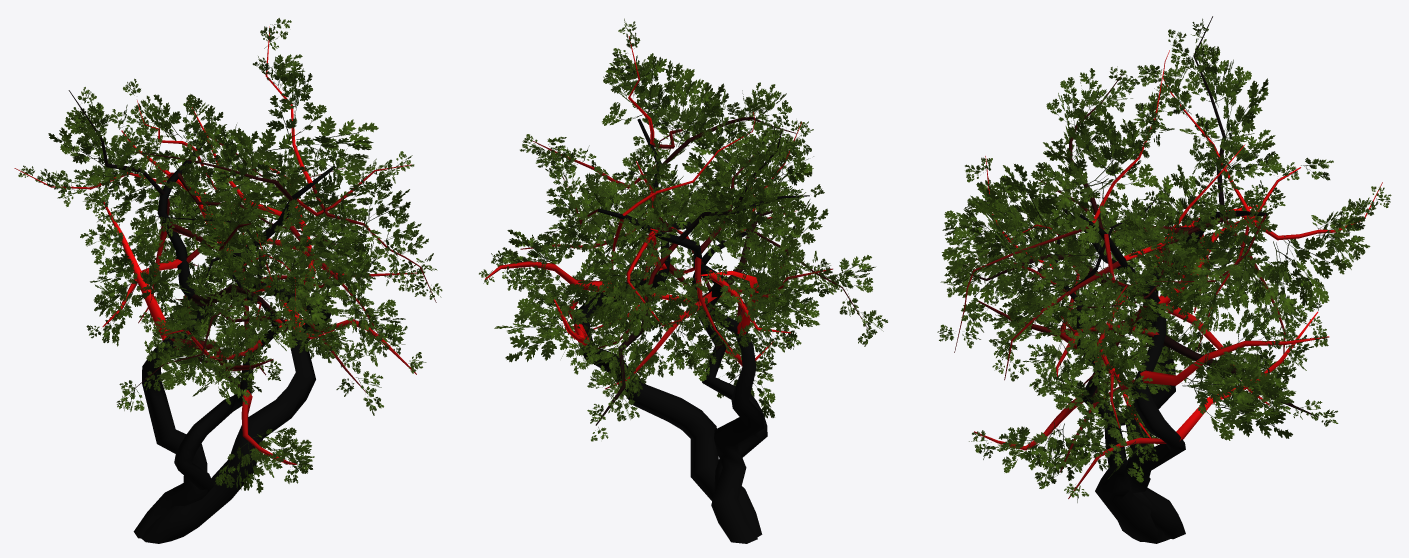
The model's file is oak3 lod0.FBX.
3 views of the same model, side by side, from view 1: azimuth 30°, elevation 25°; view 2: azimuth 150°, elevation 25°; view 3: azimuth 270°, elevation 25° (orthographic). The views are drawn at different scales.
Visible parts, largest first — view 1: oak 3; view 2: oak 3; view 3: oak 3.
Part boxes in pixels (x1,y1,x2,y2): oak 3: (14, 18, 442, 543); oak 3: (479, 18, 887, 543); oak 3: (937, 16, 1391, 543).
Bounding box in the file's own units: 98535 × 134385 × 107294.
